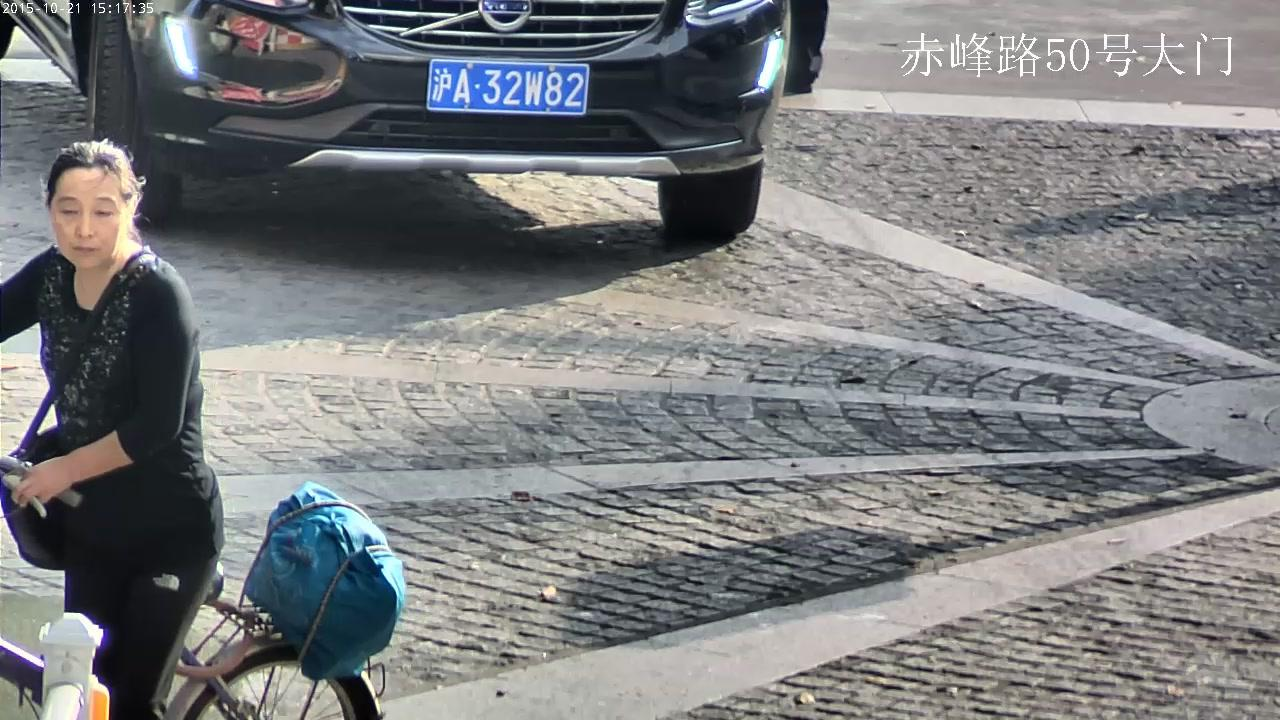face: (51, 166, 125, 267)
